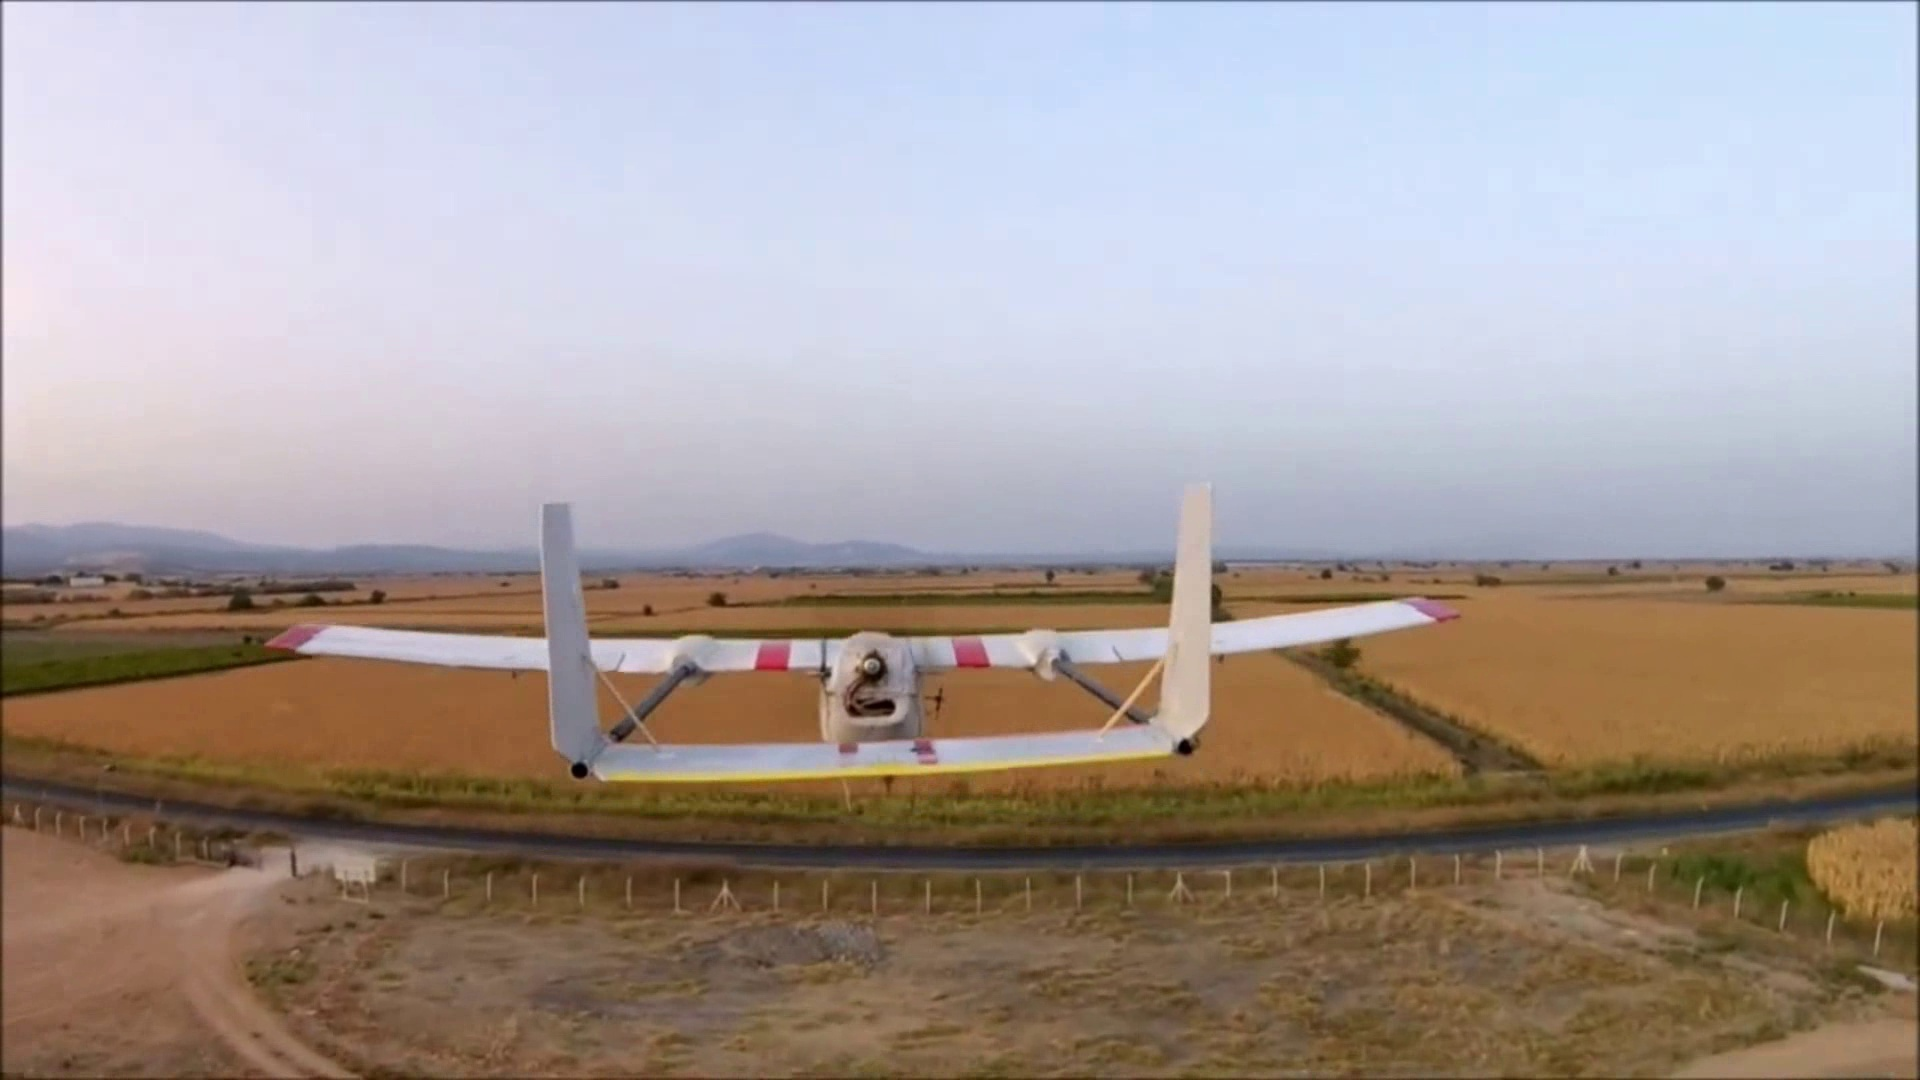airplane: (272, 484, 1462, 779)
